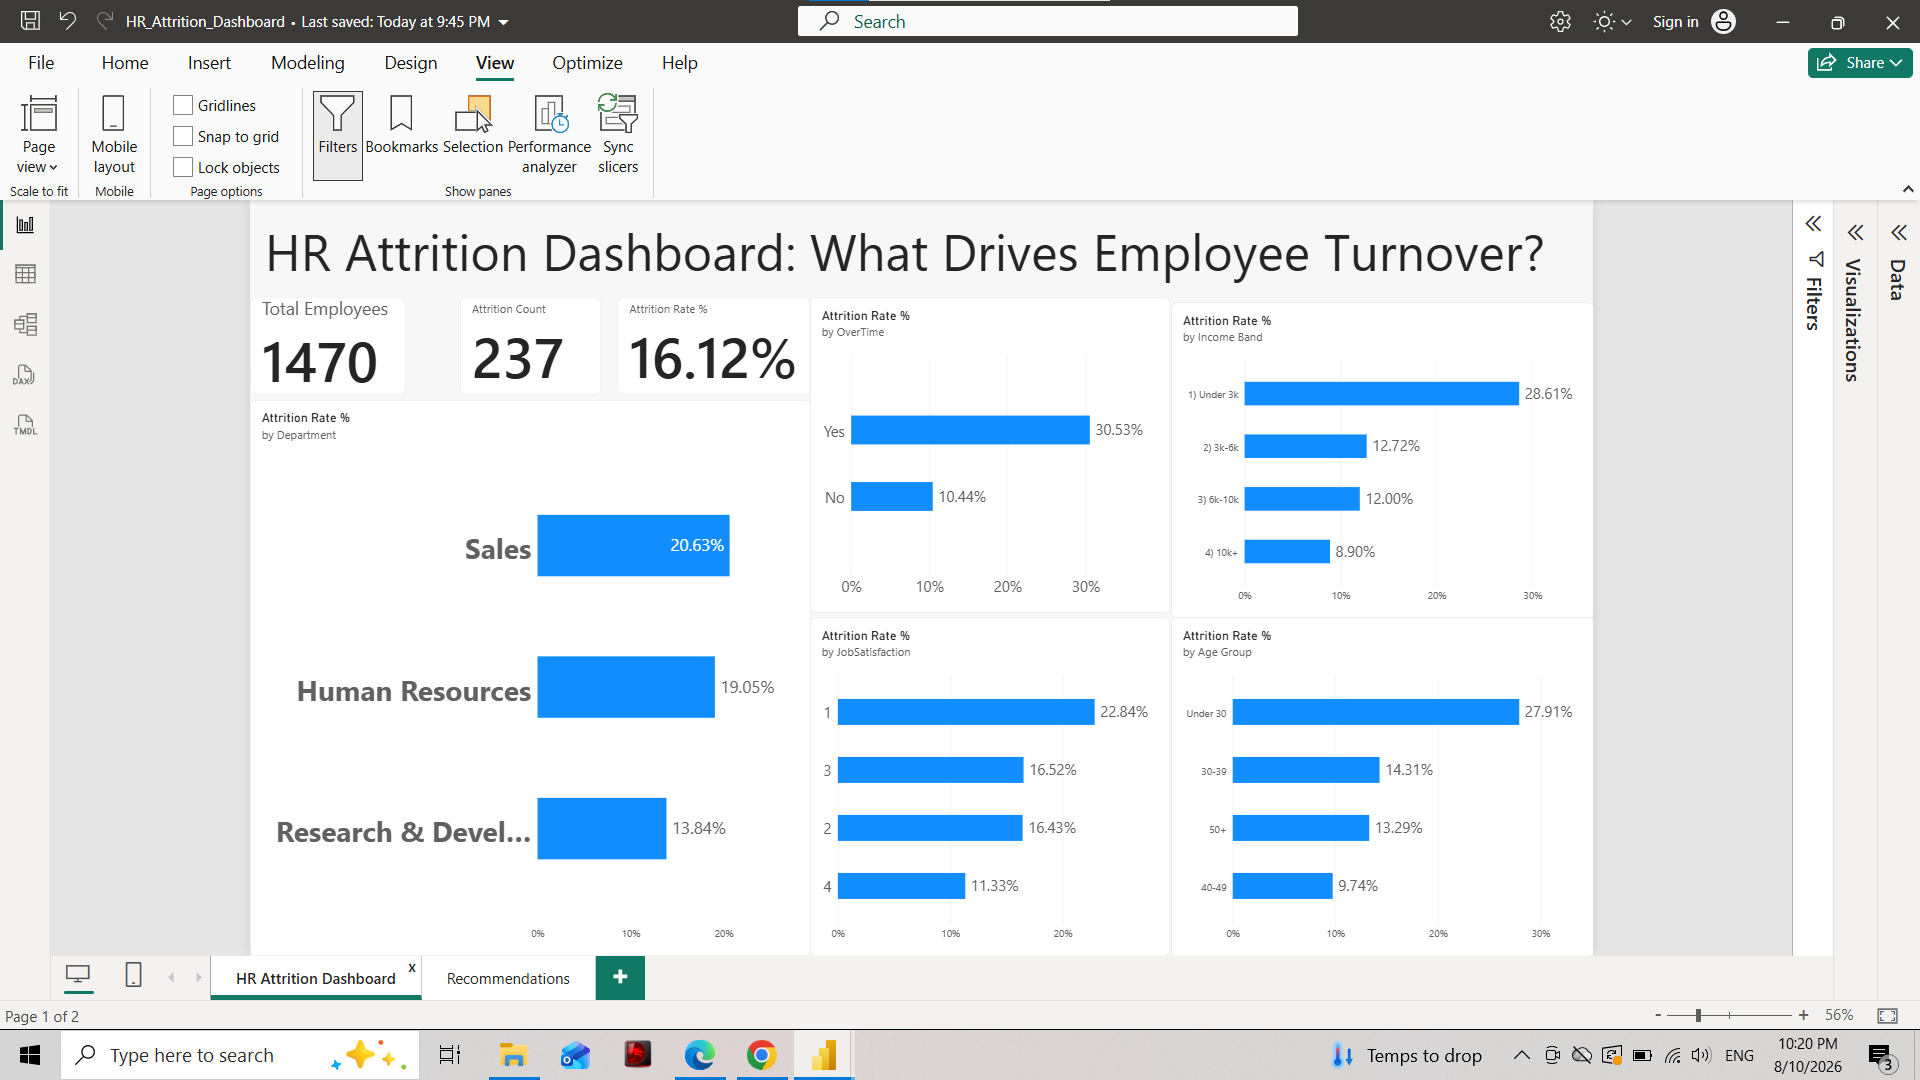

The page's visual inventory and layout, read from the dashboard file:
{"tool":"powerbi","page":{"name":"HR Attrition Dashboard","canvas":[1920,1080],"ordinal":0},"visuals":[{"type":"cardVisual","fields":{"Data":["HR_Data.Total Employees"]},"box":[0,140,222.3,140],"z":0},{"type":"cardVisual","fields":{"Data":["HR_Data.Attrition Count"]},"box":[300.5,140,201.7,140],"z":1},{"type":"cardVisual","fields":{"Data":["HR_Data.Attrition Rate %"]},"box":[524.9,140,275.8,140],"z":2},{"type":"clusteredBarChart","fields":{"Category":["HR_Data.Department"],"Y":["HR_Data.Attrition Rate %"]},"box":[0,286.1,800.7,794.5],"z":3},{"type":"clusteredBarChart","fields":{"Category":["HR_Data.OverTime"],"Y":["HR_Data.Attrition Rate %"]},"box":[800.7,140,514.6,450.8],"z":4},{"type":"clusteredBarChart","fields":{"Category":["HR_Data.Income Band"],"Y":["HR_Data.Attrition Rate %"]},"box":[1315.3,146.1,605.1,450.8],"z":5},{"type":"clusteredBarChart","fields":{"Category":["HR_Data.JobSatisfaction"],"Y":["HR_Data.Attrition Rate %"]},"box":[800.7,596.9,514.6,483.7],"z":6},{"type":"clusteredBarChart","fields":{"Category":["HR_Data.Age Group"],"Y":["HR_Data.Attrition Rate %"]},"box":[1315.3,596.9,605.1,483.7],"z":7},{"type":"textbox","box":[20.6,22.6,1883.4,102.9],"z":8}]}

Visuals, with their boxes on the page's 1920x1080 design canvas (x1, y1, x2, y2). These are canvas units, not pixel positions in the 1920x1080 screenshot, which may show the page scaled, cropped or inside an application window:
cardVisual - HR_Data.Total Employees: BBox(0, 140, 222, 280)
cardVisual - HR_Data.Attrition Count: BBox(300, 140, 502, 280)
cardVisual - HR_Data.Attrition Rate %: BBox(525, 140, 801, 280)
clusteredBarChart - HR_Data.Department x HR_Data.Attrition Rate %: BBox(0, 286, 801, 1081)
clusteredBarChart - HR_Data.OverTime x HR_Data.Attrition Rate %: BBox(801, 140, 1315, 591)
clusteredBarChart - HR_Data.Income Band x HR_Data.Attrition Rate %: BBox(1315, 146, 1920, 597)
clusteredBarChart - HR_Data.JobSatisfaction x HR_Data.Attrition Rate %: BBox(801, 597, 1315, 1081)
clusteredBarChart - HR_Data.Age Group x HR_Data.Attrition Rate %: BBox(1315, 597, 1920, 1081)
textbox: BBox(21, 23, 1904, 126)
